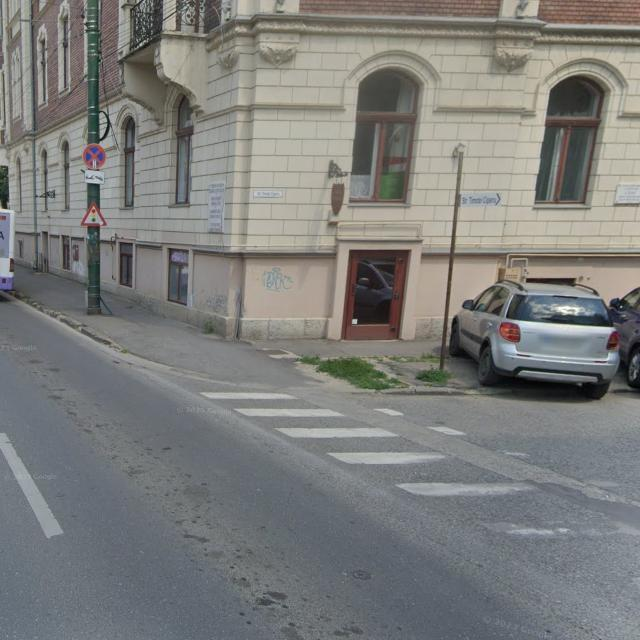forb_waiting: (83, 144, 106, 169)
